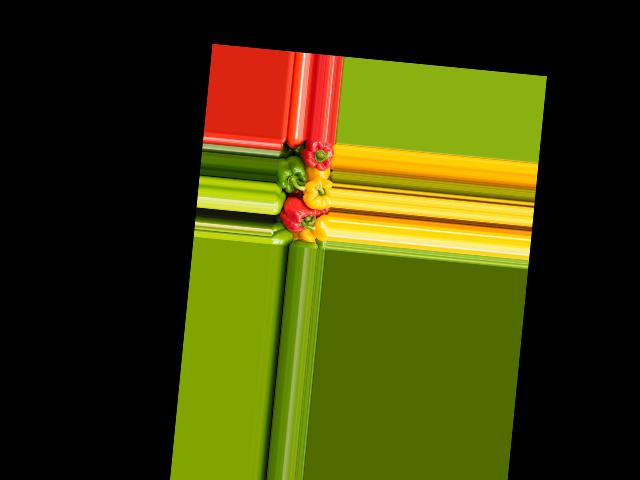bell_pepper: (299, 140, 335, 175)
